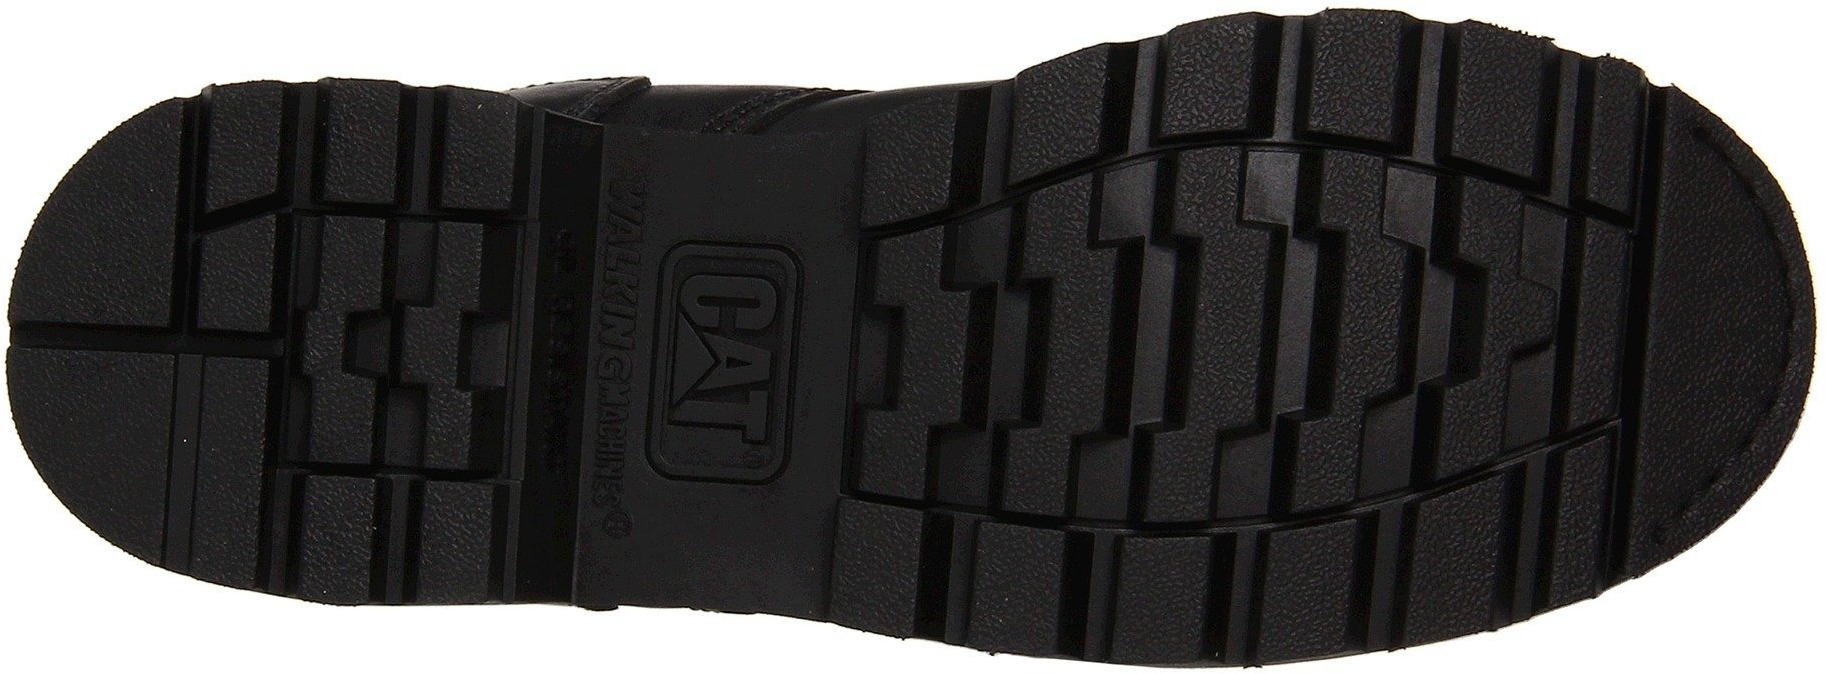exclude: (513, 52, 869, 631)
other: (1643, 223, 1819, 421), (57, 182, 176, 318), (45, 360, 176, 483)
quad: (1311, 15, 1531, 255), (1133, 419, 1357, 638), (863, 395, 1066, 620), (1410, 378, 1620, 588), (216, 80, 409, 306), (1096, 42, 1295, 244), (298, 382, 499, 581), (869, 148, 1075, 301), (1159, 258, 1328, 412)
text: (666, 272, 823, 455)
